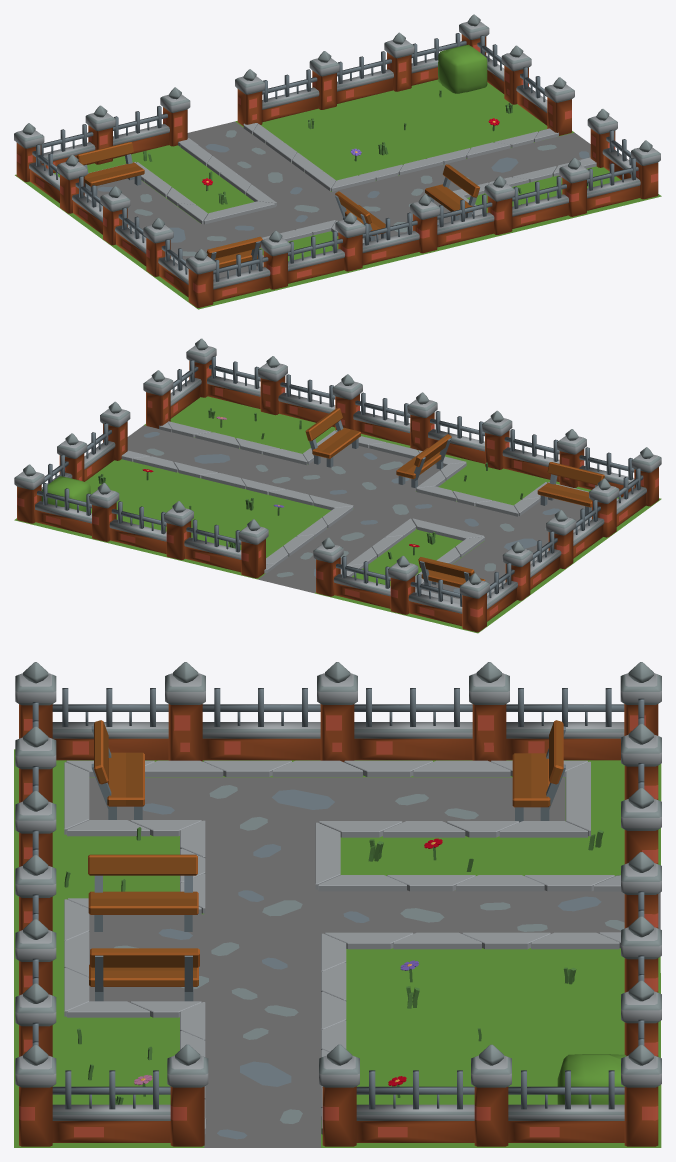
File: GARDEN3.glb
The picture shows the model from 3 angles, top to bottom: view 1: azimuth 30°, elevation 25°; view 2: azimuth 150°, elevation 25°; view 3: azimuth 270°, elevation 25°; orthographic projection. The views are drawn at different scales.
Parts seen in each view (by area): view 1: Plane, Cube.006, Cube.002, Cube.005, Cube.004, Cube.046, Cube.034, Cube.035, Plane.047, Cube.022, Cube.032, Cube.023; view 2: Plane, Cube.002, Cube.006, Cube.005, Cube.004, Cube.046, Cube.022, Cube.033, Cube.032, Plane.047, Cube.035, Cube.023 (+2 smaller); view 3: Plane, Cube.005, Cube.004, Cube.002, Cube.006, Cube.021, Cube.046, Cube.020, Cube.034, Cube.023, Cube.033, Cube.022 (+34 smaller).
Boxes of the visible parts, left/top/right/bottom form: Plane: left=15, top=79, right=661, bottom=309; Cube.006: left=186, top=157, right=640, bottom=307; Cube.002: left=41, top=14, right=489, bottom=172; Cube.005: left=14, top=123, right=188, bottom=297; Cube.004: left=477, top=35, right=660, bottom=199; Cube.046: left=438, top=44, right=487, bottom=93; Cube.034: left=84, top=162, right=144, bottom=186; Cube.035: left=76, top=142, right=133, bottom=165; Plane.047: left=204, top=201, right=275, bottom=224; Cube.022: left=425, top=184, right=472, bottom=215; Cube.032: left=206, top=236, right=262, bottom=258; Cube.023: left=443, top=164, right=479, bottom=197; Plane: left=14, top=396, right=661, bottom=633; Cube.002: left=14, top=464, right=462, bottom=626; Cube.006: left=207, top=356, right=661, bottom=506; Cube.005: left=459, top=468, right=646, bottom=632; Cube.004: left=41, top=338, right=216, bottom=490; Cube.046: left=41, top=476, right=90, bottom=511; Cube.022: left=312, top=427, right=360, bottom=458; Cube.033: left=537, top=482, right=591, bottom=507; Cube.032: left=547, top=462, right=604, bottom=485; Plane.047: left=412, top=518, right=484, bottom=540; Cube.035: left=418, top=557, right=474, bottom=578; Cube.023: left=305, top=408, right=342, bottom=441; Plane: left=14, top=749, right=661, bottom=1147; Cube.005: left=52, top=662, right=661, bottom=762; Cube.004: left=15, top=1044, right=624, bottom=1146; Cube.002: left=621, top=698, right=661, bottom=1146; Cube.006: left=15, top=662, right=56, bottom=1056; Cube.021: left=88, top=891, right=198, bottom=914; Cube.046: left=557, top=1054, right=626, bottom=1104; Cube.020: left=88, top=854, right=197, bottom=875; Cube.034: left=512, top=753, right=550, bottom=807; Cube.023: left=90, top=948, right=199, bottom=967; Cube.033: left=107, top=752, right=144, bottom=806; Cube.022: left=89, top=964, right=198, bottom=986.
Bounding box in the file's own units: 35.93 × 4.51 × 24.61.
